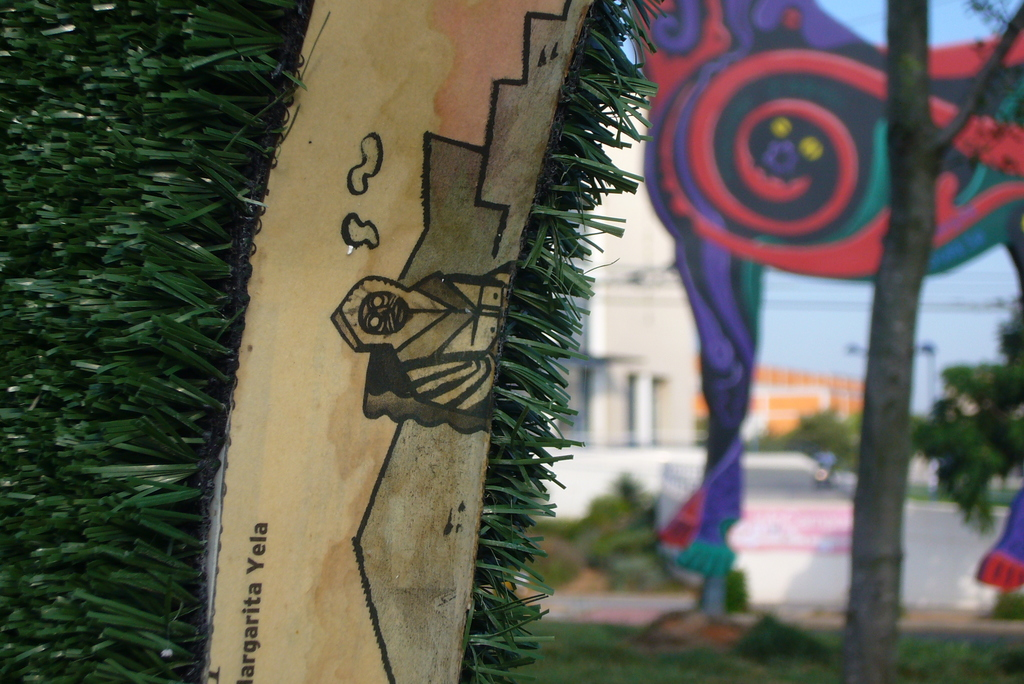Tree: (838, 0, 1024, 684)
